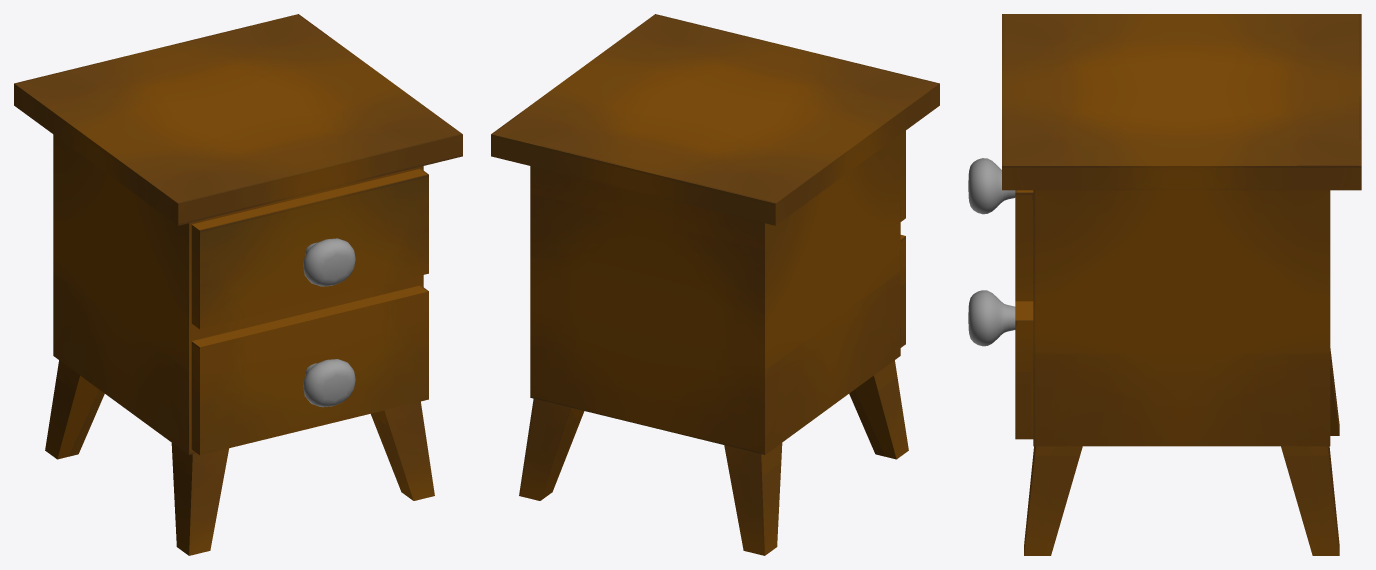
Rendered from Nightstand.glb.
The picture shows the model from 3 angles, left to right: view 1: azimuth 30°, elevation 25°; view 2: azimuth 150°, elevation 25°; view 3: azimuth 270°, elevation 25°; orthographic projection. The views are drawn at different scales.
Parts seen in each view (by area): view 1: Cube, Cube.002, Cube.001; view 2: Cube; view 3: Cube, Cube.001, Cube.002.
Boxes of the visible parts, left/top/right/bottom form: Cube: left=14, top=14, right=462, bottom=555; Cube.002: left=303, top=238, right=355, bottom=286; Cube.001: left=303, top=359, right=355, bottom=407; Cube: left=491, top=14, right=939, bottom=555; Cube: left=1002, top=14, right=1361, bottom=555; Cube.001: left=968, top=290, right=1015, bottom=346; Cube.002: left=968, top=158, right=1015, bottom=214.
Bounding box in the file's own units: 0.3513 × 0.4303 × 0.3843.
2 materials, 1 textured.
